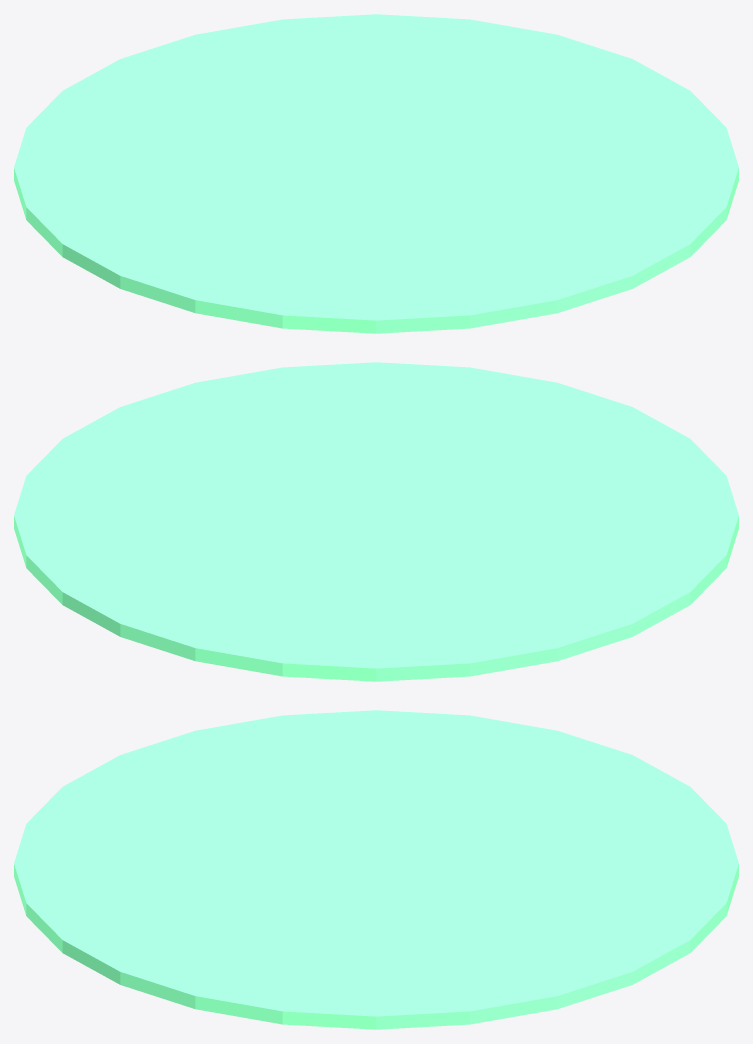
The model's file is spawn_circle_lev1.glb.
The picture shows the model from 3 angles, top to bottom: view 1: azimuth 30°, elevation 25°; view 2: azimuth 150°, elevation 25°; view 3: azimuth 270°, elevation 25°; orthographic projection.
Visible parts, largest first — view 1: spawn_circle_lev1; view 2: spawn_circle_lev1; view 3: spawn_circle_lev1.
Part boxes in pixels (bbox=[...]): spawn_circle_lev1: bbox=[14, 14, 738, 333]; spawn_circle_lev1: bbox=[14, 362, 738, 681]; spawn_circle_lev1: bbox=[14, 710, 738, 1029].
Size of the model in its own units: 3 by 0.06 by 3.
